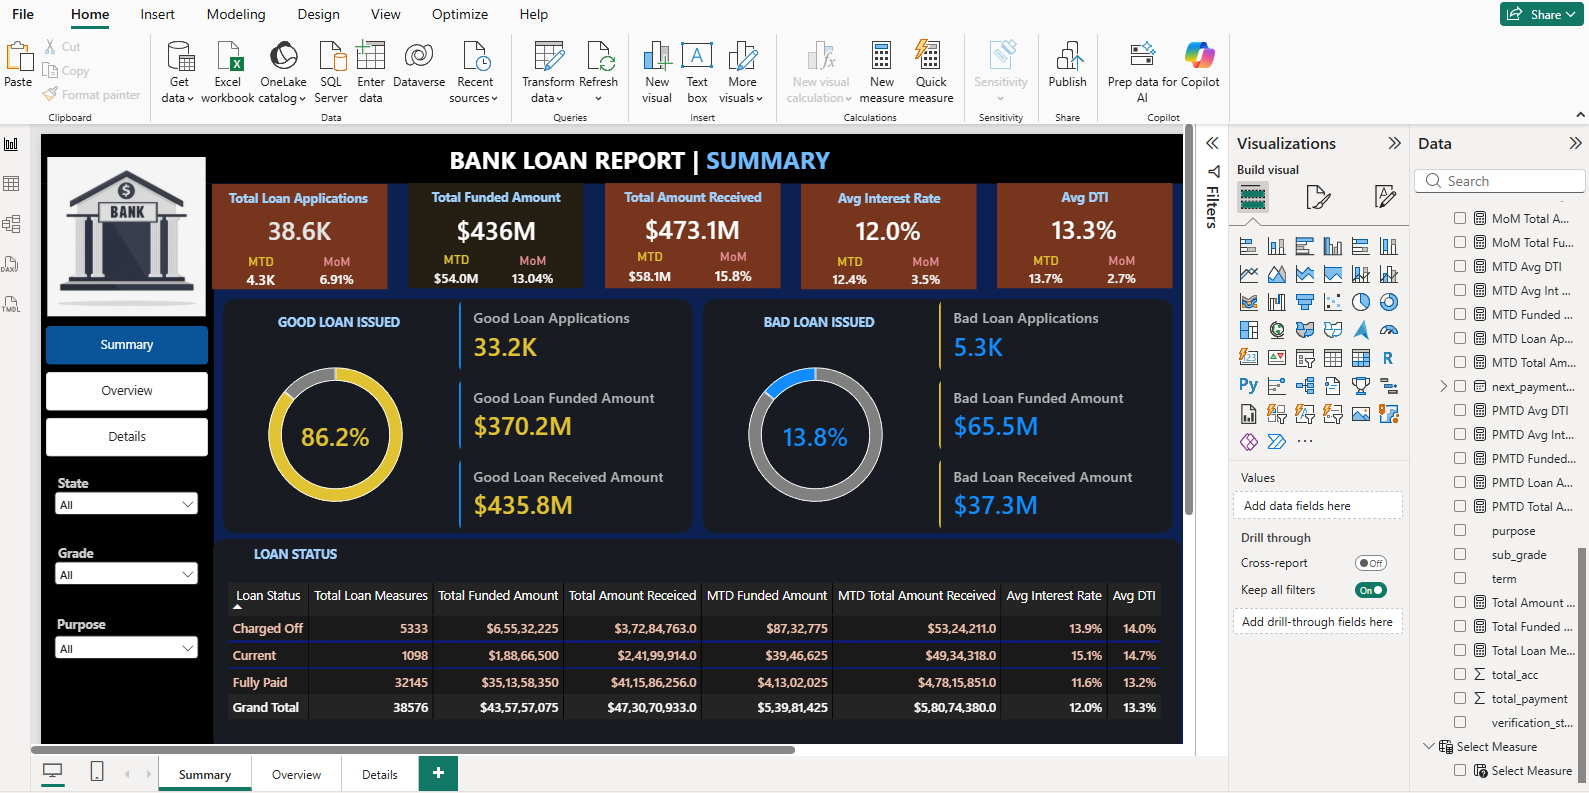

The page's visual inventory and layout, read from the dashboard file:
{"tool":"powerbi","page":{"name":"Summary ","canvas":[1920,1080],"ordinal":0},"visuals":[{"type":"shape","box":[407.8,54.4,195,117],"z":0,"group":"g1"},{"type":"shape","box":[0,55.6,192,655],"z":0},{"type":"shape","box":[0,0,1280,55],"z":1000},{"type":"cardVisual","fields":{"Data":["financial_loan.Total Funded Amount"]},"box":[409.8,81.6,192.2,50],"z":1000,"group":"g1"},{"type":"textbox","box":[448.9,10,432.2,45.6],"z":2000},{"type":"textbox","box":[420,60,171.1,27.8],"z":2000,"group":"g1"},{"type":"group","id":"g1","title":"Group 1","box":[407.8,54.4,195.6,116.7],"z":3000},{"type":"shape","box":[626.1,54.4,195,117],"z":3000,"group":"g3"},{"type":"shape","box":[1062.2,54.4,195,117],"z":3000,"group":"g5"},{"type":"shape","box":[190,55.6,195,117],"z":3000,"group":"g2"},{"type":"shape","box":[843.9,55.6,195,117],"z":3000,"group":"g4"},{"type":"cardVisual","title":"MTD","fields":{"Data":["financial_loan.MTD Funded Amount"]},"box":[409.8,131.6,103.3,40],"z":3000,"group":"g1"},{"type":"group","id":"g2","title":"Group 2","box":[190,55.6,195,117],"z":4000},{"type":"cardVisual","fields":{"Data":["financial_loan.Total Amount Receiced"]},"box":[627.2,80,192.2,50],"z":4000,"group":"g3"},{"type":"cardVisual","fields":{"Data":["financial_loan.Avg DTI"]},"box":[1063.3,80,192.2,50],"z":4000,"group":"g5"},{"type":"cardVisual","fields":{"Data":["financial_loan.Total Loan Measures"]},"box":[191.1,81.2,192.2,50],"z":4000,"group":"g2"},{"type":"cardVisual","fields":{"Data":["financial_loan.Avg Interest Rate"]},"box":[845,81.2,192.2,50],"z":4000,"group":"g4"},{"type":"cardVisual","title":"MoM","fields":{"Data":["financial_loan.MoM Total Funded Amount"]},"box":[504.5,132.2,84.4,38.9],"z":4000,"group":"g1"},{"type":"group","id":"g3","title":"Group 2","box":[626.1,54.4,195,117],"z":5000},{"type":"textbox","box":[638.3,60,171.1,27.8],"z":5000,"group":"g3"},{"type":"textbox","box":[1074.4,60,171.1,27.8],"z":5000,"group":"g5"},{"type":"textbox","box":[202.2,61.2,171.1,27.8],"z":5000,"group":"g2"},{"type":"textbox","box":[856.1,61.2,171.1,27.8],"z":5000,"group":"g4"},{"type":"shape","box":[202.2,183.3,522,260],"z":5000,"group":"g9"},{"type":"shape","box":[735.6,183.3,522,260],"z":5000,"group":"g6"},{"type":"shape","box":[191.1,450,1075.6,232.2],"z":5000,"group":"g8"},{"type":"group","id":"g4","title":"Group 2","box":[843.9,55.6,195.6,116.7],"z":6000},{"type":"cardVisual","title":"MTD","fields":{"Data":["financial_loan.MTD Total Amount Received"]},"box":[629.9,127.2,93.3,43.3],"z":6000,"group":"g3"},{"type":"cardVisual","title":"MTD","fields":{"Data":["financial_loan.MTD Avg DTI"]},"box":[1074.4,132.2,84.4,38.9],"z":6000,"group":"g5"},{"type":"cardVisual","title":"MTD","fields":{"Data":["financial_loan.MTD Loan Applications"]},"box":[202.2,133.4,84.4,38.9],"z":6000,"group":"g2"},{"type":"cardVisual","title":"MTD","fields":{"Data":["financial_loan.MTD Avg Int Rate"]},"box":[856.1,133.4,84.4,38.9],"z":6000,"group":"g4"},{"type":"donutChart","fields":{"Category":["financial_loan.Good vd Bad Loans"],"Y":["financial_loan.Total Loan Measures"]},"box":[202.2,226.6,250,216.7],"z":6000,"group":"g9"},{"type":"donutChart","fields":{"Category":["financial_loan.Good vd Bad Loans"],"Y":["financial_loan.Total Loan Measures"]},"box":[735.6,226.6,250,216.7],"z":6000,"group":"g6"},{"type":"group","id":"g5","title":"Group 2","box":[1062.2,54.4,195.6,116.7],"z":7000},{"type":"cardVisual","title":"MoM","fields":{"Data":["financial_loan.MoM Total Amount Received"]},"box":[722.9,127.2,92.2,43.3],"z":7000,"group":"g3"},{"type":"cardVisual","title":"MoM","fields":{"Data":["financial_loan.MoM Avg DTI"]},"box":[1158.9,132.2,84.4,38.9],"z":7000,"group":"g5"},{"type":"cardVisual","title":"MoM","fields":{"Data":["financial_loan.MoM Loan Application"]},"box":[286.7,133.4,84.4,38.9],"z":7000,"group":"g2"},{"type":"cardVisual","title":"MoM","fields":{"Data":["financial_loan.MoM Avg Interest Rate"]},"box":[940.6,133.4,84.4,38.9],"z":7000,"group":"g4"},{"type":"group","id":"g6","title":"Group 3","box":[735.6,183.3,522.2,260],"z":8000},{"type":"cardVisual","fields":{"Data":["financial_loan.Bad Loan Percent"]},"box":[802.2,310,117.8,50],"z":9000},{"type":"group","id":"g7","title":"Group 4","box":[202.2,183.3,522.2,260],"z":10000},{"type":"group","id":"g8","title":"Group 3","box":[191.1,450,1075.6,232.2],"z":11000},{"type":"group","id":"g9","title":"Group 3","box":[202.2,183.3,522.2,260],"z":11500,"group":"g7"},{"type":"textbox","box":[245.5,198.9,171.1,27.8],"z":12000,"group":"g9"},{"type":"textbox","box":[778.9,198.9,171.1,27.8],"z":12000,"group":"g6"},{"type":"cardVisual","fields":{"Data":["financial_loan.Good Loan Percent"]},"box":[268.9,310,117.8,50],"z":12000,"group":"g7"},{"type":"textbox","box":[18.9,377.8,51.1,27.8],"z":12000,"group":"g10"},{"type":"textbox","box":[18.9,455.6,51.1,27.8],"z":12000,"group":"g11"},{"type":"tableEx","fields":{"Values":["financial_loan.loan_status","financial_loan.Total Loan Measures","financial_loan.Total Funded Amount","financial_loan.Total Amount Receiced","financial_loan.MTD Funded Amount","financial_loan.MTD Total Amount Received","financial_loan.Avg Interest Rate","financial_loan.Avg DTI"]},"box":[191.1,484.4,1075.6,197.8],"z":12000},{"type":"textbox","box":[17.8,534.7,93.3,31.1],"z":12000,"group":"g12"},{"type":"cardVisual","fields":{"Data":["financial_loan.Good Loan Applications","financial_loan.Good Loan Funded Amount","financial_loan.Good Loan Received Amount"]},"box":[464.4,183.3,252.2,260],"z":13000,"group":"g9"},{"type":"cardVisual","fields":{"Data":["financial_loan.Bad Loan Applications","financial_loan.Bad Loan Funded Amount","financial_loan.Bad Loan Received Amount"]},"box":[997.8,183.3,252.2,260],"z":13000,"group":"g6"},{"type":"textbox","box":[236.7,456.7,171.1,27.8],"z":13000},{"type":"group","id":"g10","title":"Group 5","box":[10,377.8,170,56.7],"z":14000},{"type":"slicer","fields":{"Values":["financial_loan.address_state"]},"box":[10,392.2,170,42.2],"z":14000,"group":"g10"},{"type":"slicer","fields":{"Values":["financial_loan.grade"]},"box":[10,470,170,42.2],"z":14000,"group":"g11"},{"type":"slicer","fields":{"Values":["financial_loan.purpose"]},"box":[10,552.2,170,42.2],"z":14000,"group":"g12"},{"type":"group","id":"g11","title":"Group 5","box":[10,455.6,170,56.7],"z":15000},{"type":"group","id":"g12","title":"Group 5","box":[10,534.7,170,59.8],"z":16000},{"type":"image","box":[0,25.6,190,176.7],"z":16001},{"type":"pageNavigator","box":[5.6,213.3,180,146.7],"z":16002}]}

Visuals, with their boxes on the page's 1920x1080 design canvas (x1, y1, x2, y2). These are canvas units, not pixel positions in the 1589x793 screenshot, which may show the page scaled, cropped or inside an application window:
shape: 408,54,603,171
shape: 0,56,192,711
shape: 0,0,1280,55
cardVisual - financial_loan.Total Funded Amount: 410,82,602,132
textbox: 449,10,881,56
textbox: 420,60,591,88
"Group 1" group: 408,54,603,171
shape: 626,54,821,171
shape: 1062,54,1257,171
shape: 190,56,385,173
shape: 844,56,1039,173
"MTD" cardVisual: 410,132,513,172
"Group 2" group: 190,56,385,173
cardVisual - financial_loan.Total Amount Receiced: 627,80,819,130
cardVisual - financial_loan.Avg DTI: 1063,80,1256,130
cardVisual - financial_loan.Total Loan Measures: 191,81,383,131
cardVisual - financial_loan.Avg Interest Rate: 845,81,1037,131
"MoM" cardVisual: 504,132,589,171
"Group 2" group: 626,54,821,171
textbox: 638,60,809,88
textbox: 1074,60,1246,88
textbox: 202,61,373,89
textbox: 856,61,1027,89
shape: 202,183,724,443
shape: 736,183,1258,443
shape: 191,450,1267,682
"Group 2" group: 844,56,1040,172
"MTD" cardVisual: 630,127,723,170
"MTD" cardVisual: 1074,132,1159,171
"MTD" cardVisual: 202,133,287,172
"MTD" cardVisual: 856,133,940,172
donutChart - financial_loan.Good vd Bad Loans x financial_loan.Total Loan Measures: 202,227,452,443
donutChart - financial_loan.Good vd Bad Loans x financial_loan.Total Loan Measures: 736,227,986,443
"Group 2" group: 1062,54,1258,171
"MoM" cardVisual: 723,127,815,170
"MoM" cardVisual: 1159,132,1243,171
"MoM" cardVisual: 287,133,371,172
"MoM" cardVisual: 941,133,1025,172
"Group 3" group: 736,183,1258,443
cardVisual - financial_loan.Bad Loan Percent: 802,310,920,360
"Group 4" group: 202,183,724,443
"Group 3" group: 191,450,1267,682
"Group 3" group: 202,183,724,443
textbox: 246,199,417,227
textbox: 779,199,950,227
cardVisual - financial_loan.Good Loan Percent: 269,310,387,360
textbox: 19,378,70,406
textbox: 19,456,70,483
tableEx - financial_loan.loan_status x financial_loan.Total Loan Measures: 191,484,1267,682
textbox: 18,535,111,566
cardVisual - financial_loan.Good Loan Applications x financial_loan.Good Loan Funded Amount: 464,183,717,443
cardVisual - financial_loan.Bad Loan Applications x financial_loan.Bad Loan Funded Amount: 998,183,1250,443
textbox: 237,457,408,484
"Group 5" group: 10,378,180,434
slicer - financial_loan.address_state: 10,392,180,434
slicer - financial_loan.grade: 10,470,180,512
slicer - financial_loan.purpose: 10,552,180,594
"Group 5" group: 10,456,180,512
"Group 5" group: 10,535,180,594
image: 0,26,190,202
pageNavigator: 6,213,186,360
